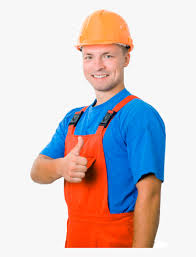Person_wearing_helmet: (75, 7, 135, 66)
